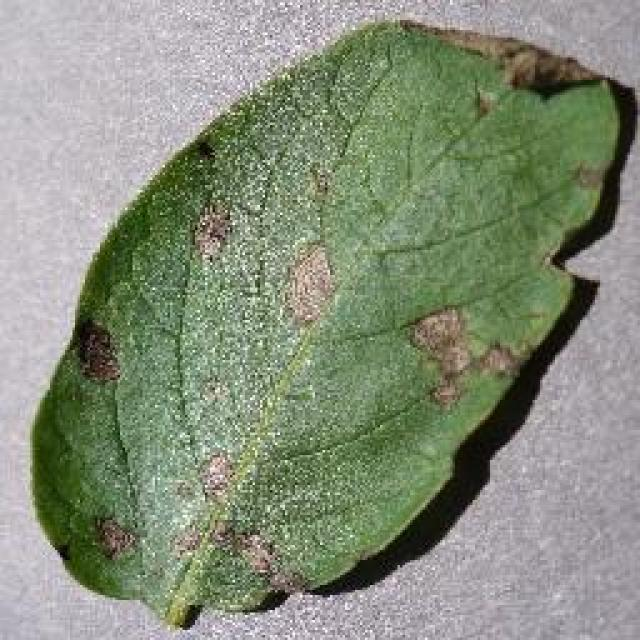Potato: (25, 15, 633, 630)
